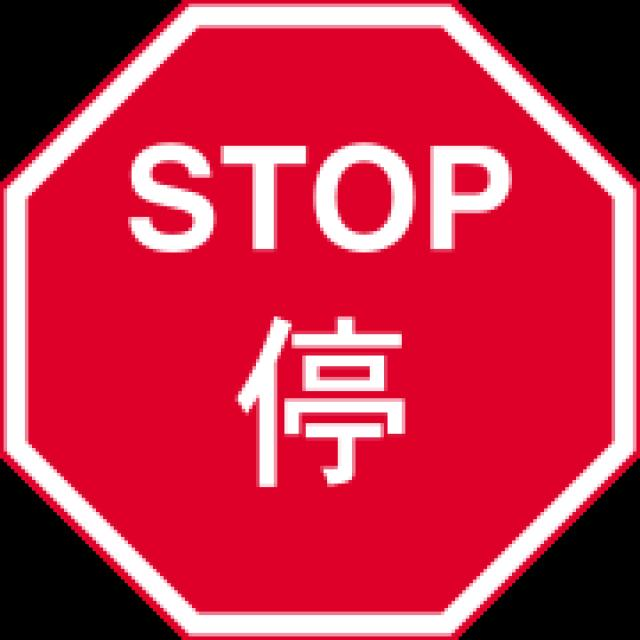Traffic sign: (22, 10, 637, 619)
